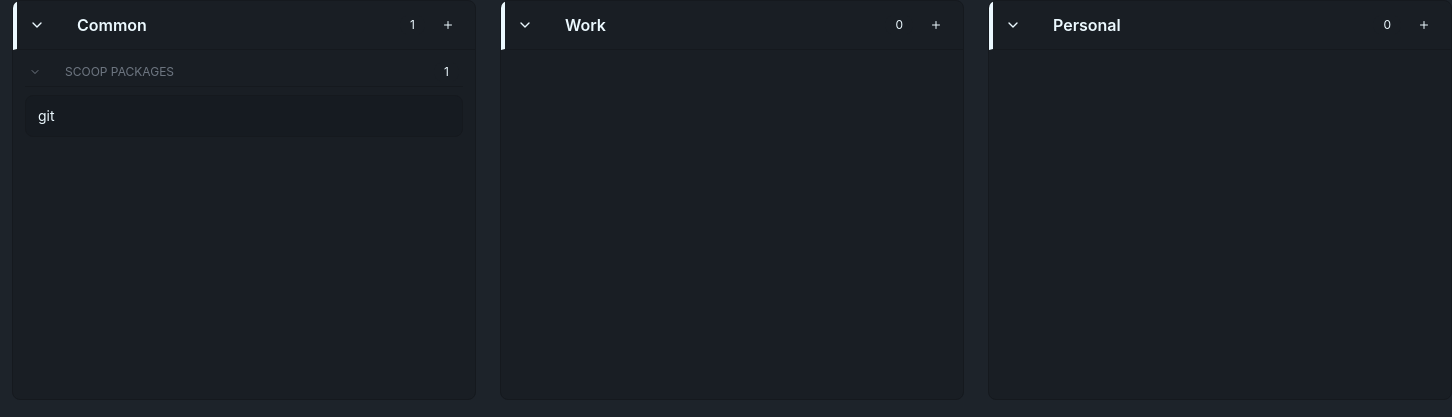
Test: JsonEditor › shows copy and split options in context menu
Right-click the text "git".
right_click(46, 116)  # box [38,107,55,124]
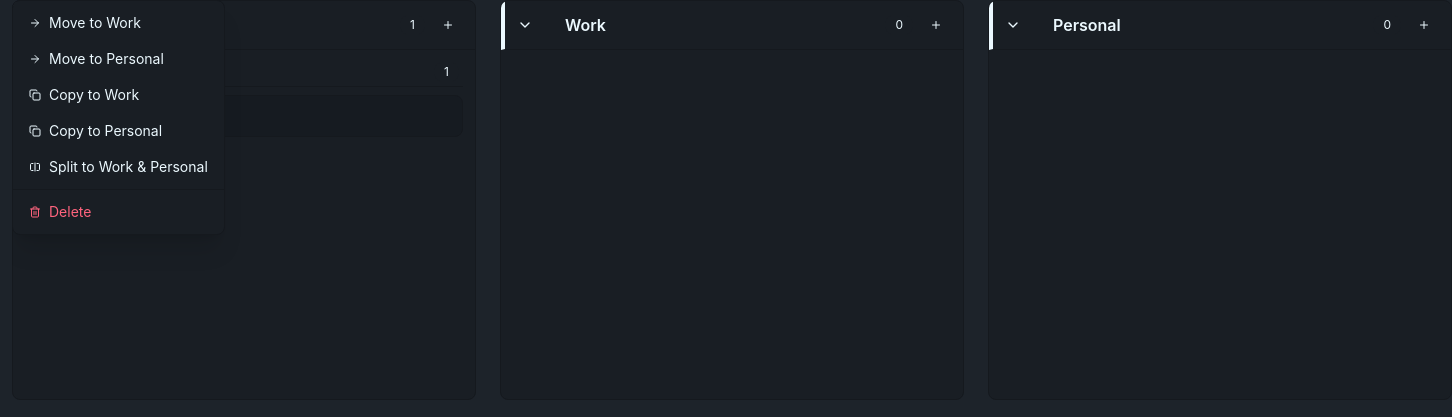
Result: the button "Copy to Work" is shown at [13,77,224,113]
Result: the button "Copy to Personal" is shown at [13,113,224,149]
Result: the button "Split to Work & Personal" is shown at [13,149,224,185]
